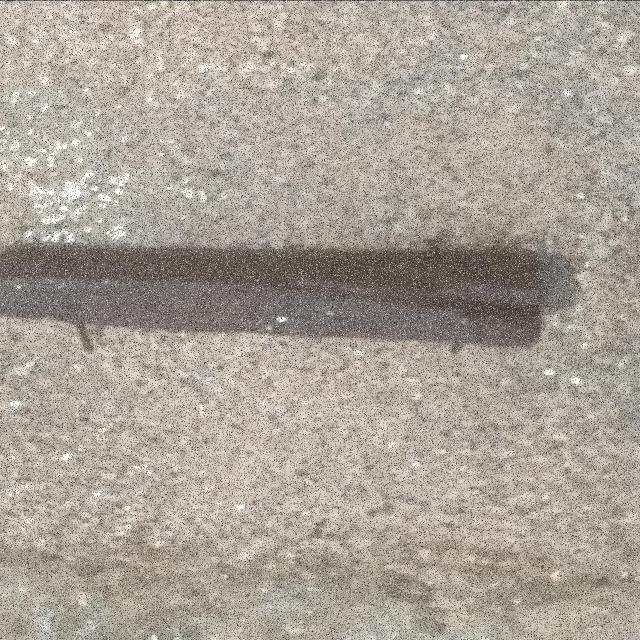wood_waste: (1, 244, 549, 352)
